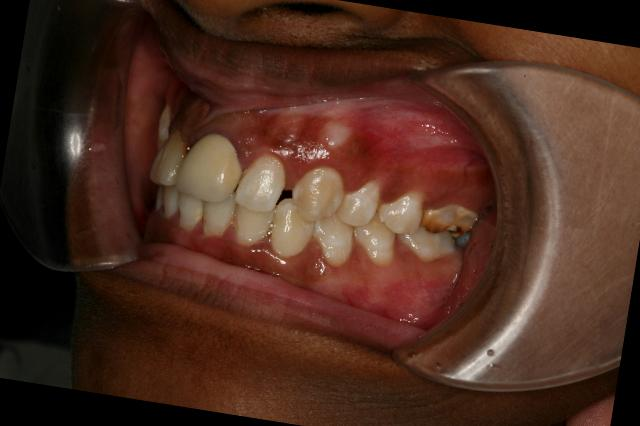canine class II 1/4: (262, 146, 368, 274)
molar class I: (392, 194, 484, 272)
